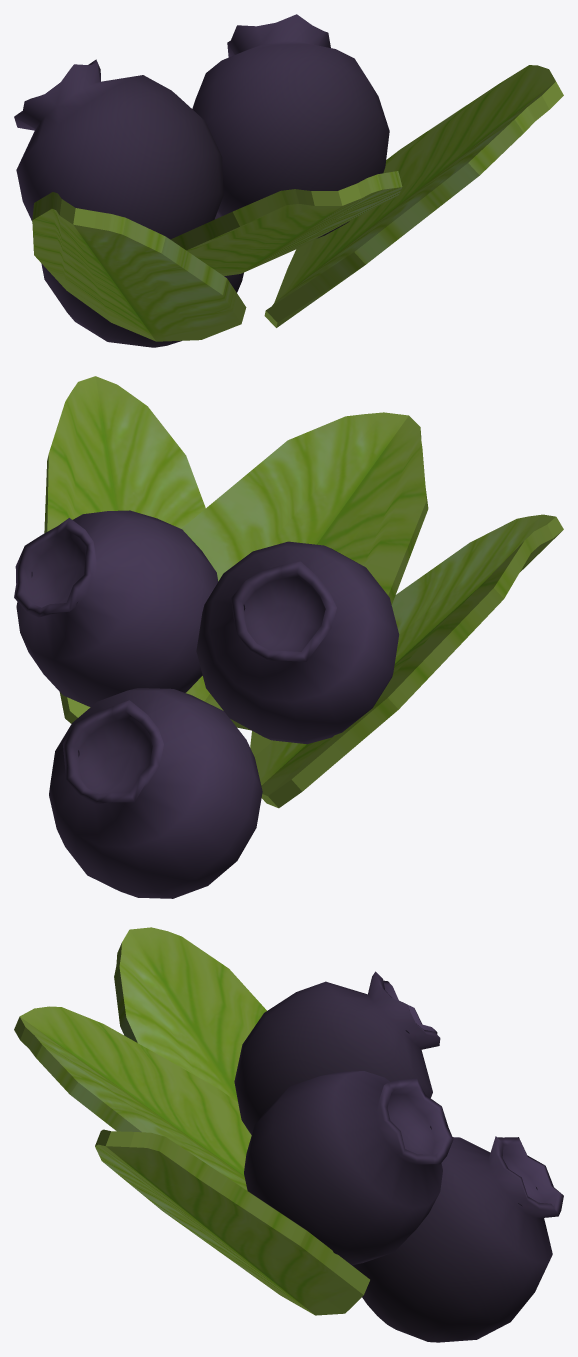
The model's file is Blueberry.fbx.
3 views of the same model, one above another, from view 1: azimuth 30°, elevation 25°; view 2: azimuth 150°, elevation 25°; view 3: azimuth 270°, elevation 25° (orthographic). The views are drawn at different scales.
Visible parts, largest first — view 1: Blueberry; view 2: Blueberry; view 3: Blueberry.
Boxes of the visible parts, <box> form: Blueberry: <box>14,14,563,347</box>; Blueberry: <box>14,376,563,898</box>; Blueberry: <box>14,927,563,1342</box>.
Size of the model in its own units: 12.12 by 7.84 by 12.39.
